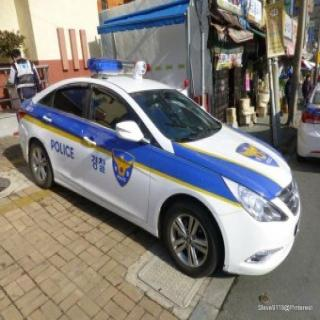Police_car: (16, 58, 300, 278), (296, 67, 320, 163)
